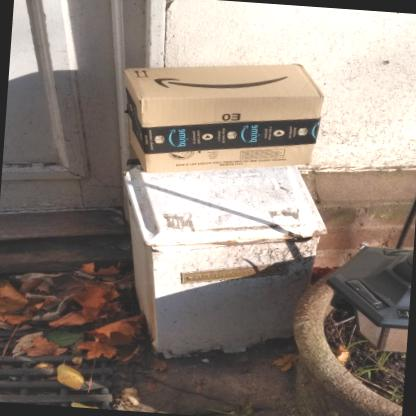box: (121, 63, 323, 174)
